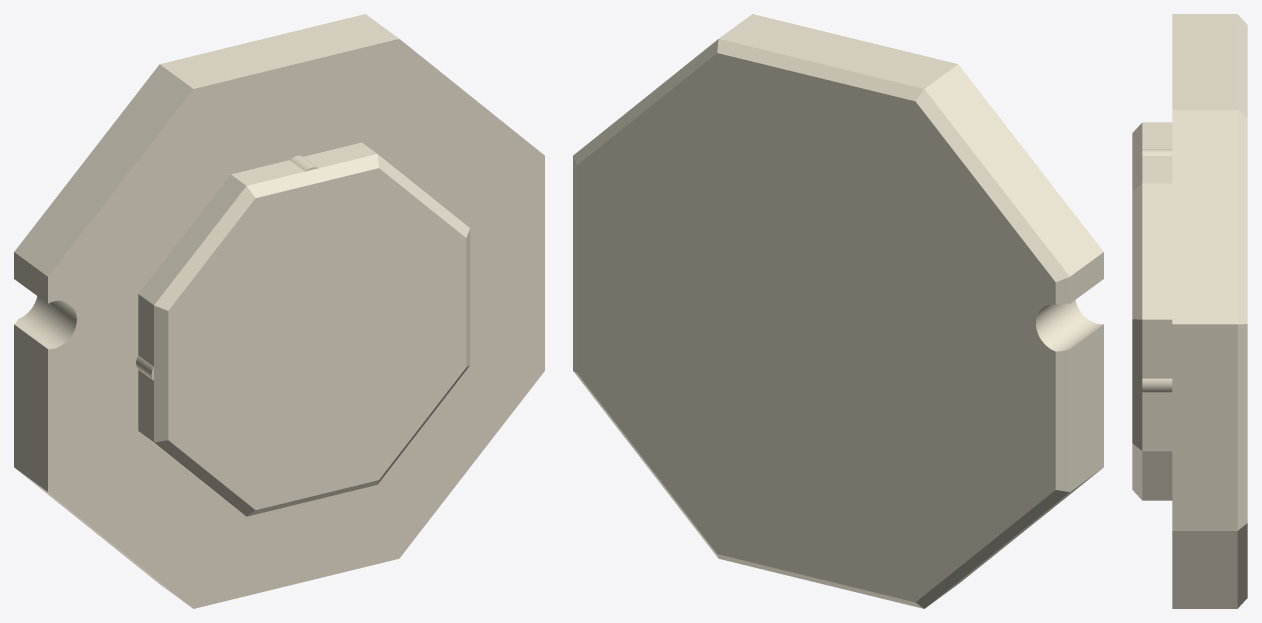
File: coupon-boss-key-r10@ivory.glb
3 renders of one model, left to right at view 1: azimuth 30°, elevation 25°; view 2: azimuth 150°, elevation 25°; view 3: azimuth 270°, elevation 25°, orthographic. The views are drawn at different scales.
Visible parts, largest first — view 1: geometry_0; view 2: geometry_0; view 3: geometry_0.
Part boxes in pixels (x1,y1,x2,y2): geometry_0: (14, 14, 544, 608); geometry_0: (573, 14, 1103, 608); geometry_0: (1132, 14, 1247, 608).
Bounding box in the file's own units: 22 × 22 × 4.6.
